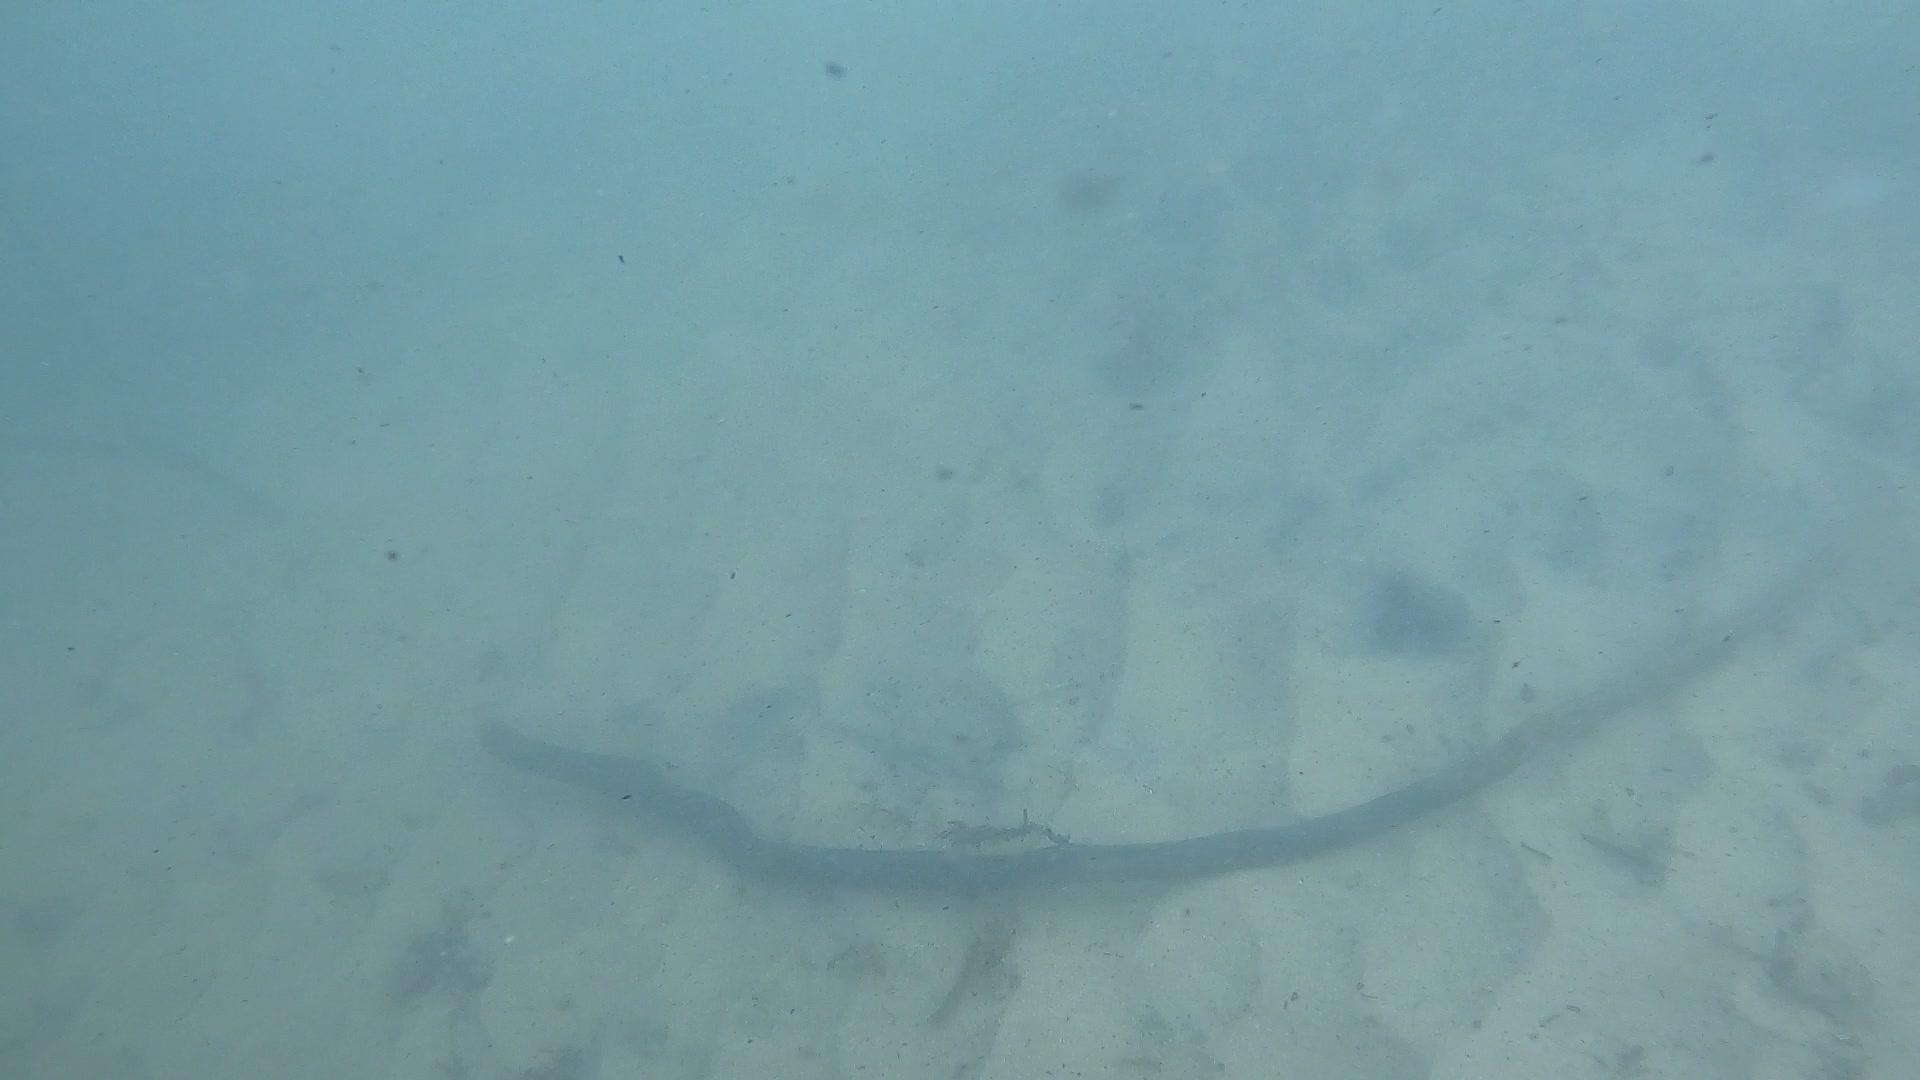wood: (476, 553, 1844, 898)
